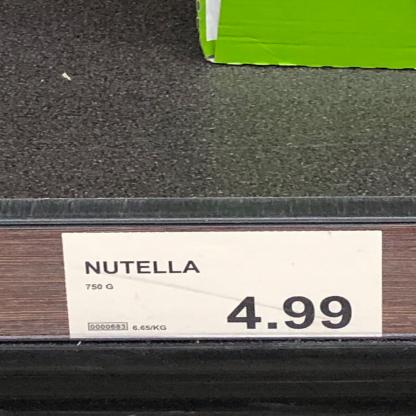prtg: (62, 231, 384, 340)
